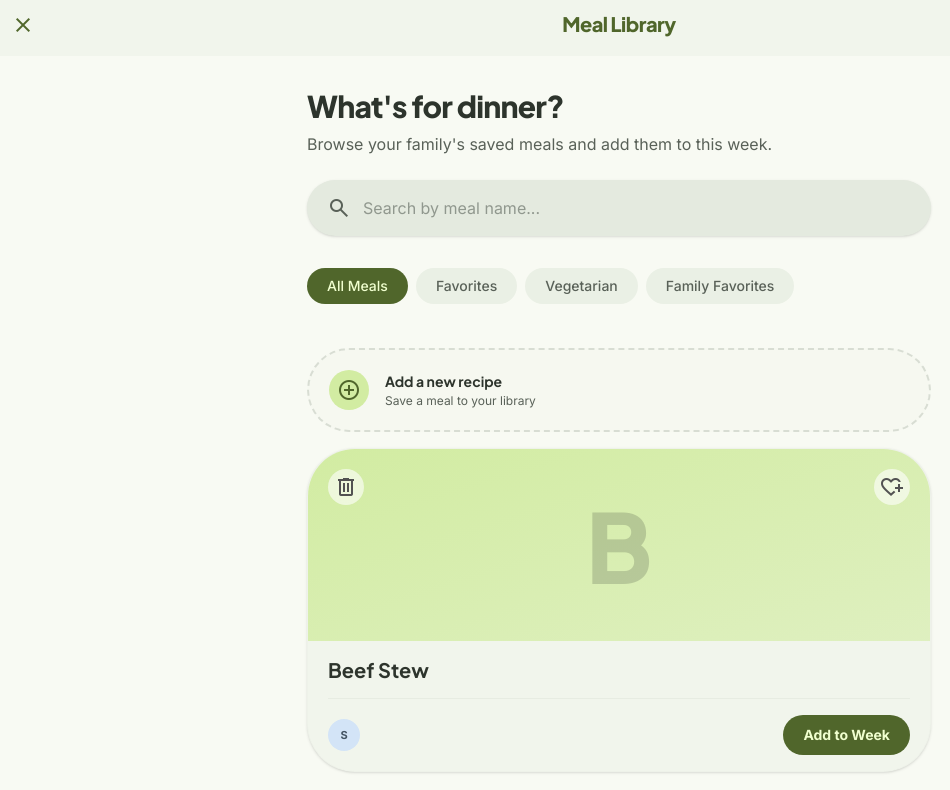
MealLibrary › shows "No matches found" when search yields no results
Expected: the heading "Beef Stew" is shown, left=328, top=657, right=429, bottom=682
Step 1. Type "pizza" into the field with placeholder "Search by meal name..." → (619, 208), box left=307, top=180, right=931, bottom=236
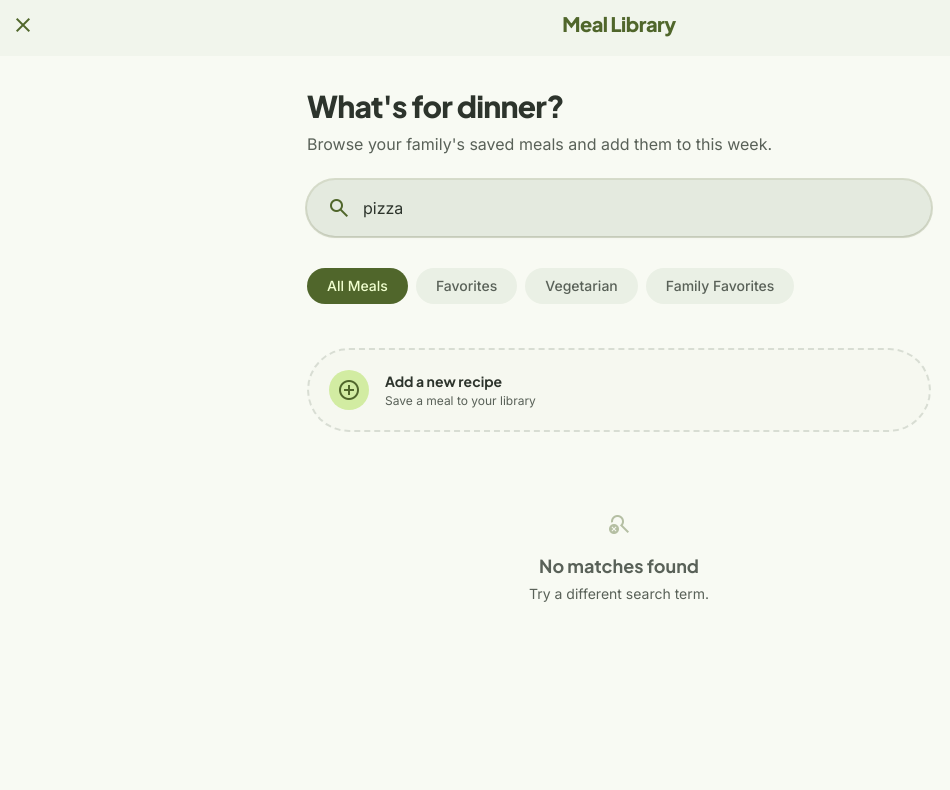
Result: the text "No matches found" is shown at left=539, top=554, right=699, bottom=577
